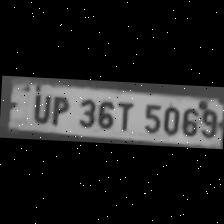0: (160, 102, 180, 134)
3: (72, 94, 98, 127)
5: (138, 100, 162, 134)
6: (177, 103, 200, 137), (94, 98, 116, 130)
9: (196, 104, 218, 138)
P: (46, 92, 72, 125)
T: (113, 98, 137, 132)
U: (26, 90, 52, 124)
